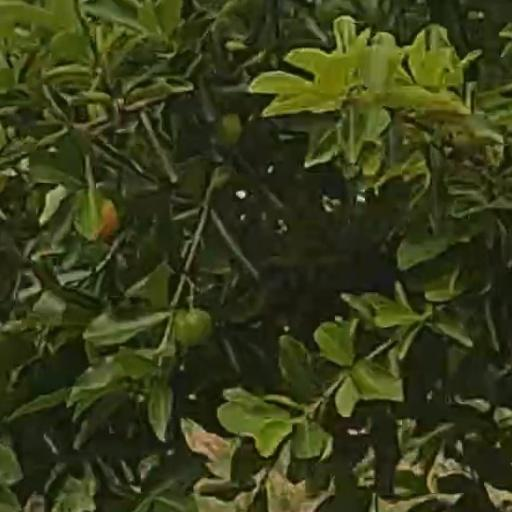acerola: (176, 311, 211, 346)
